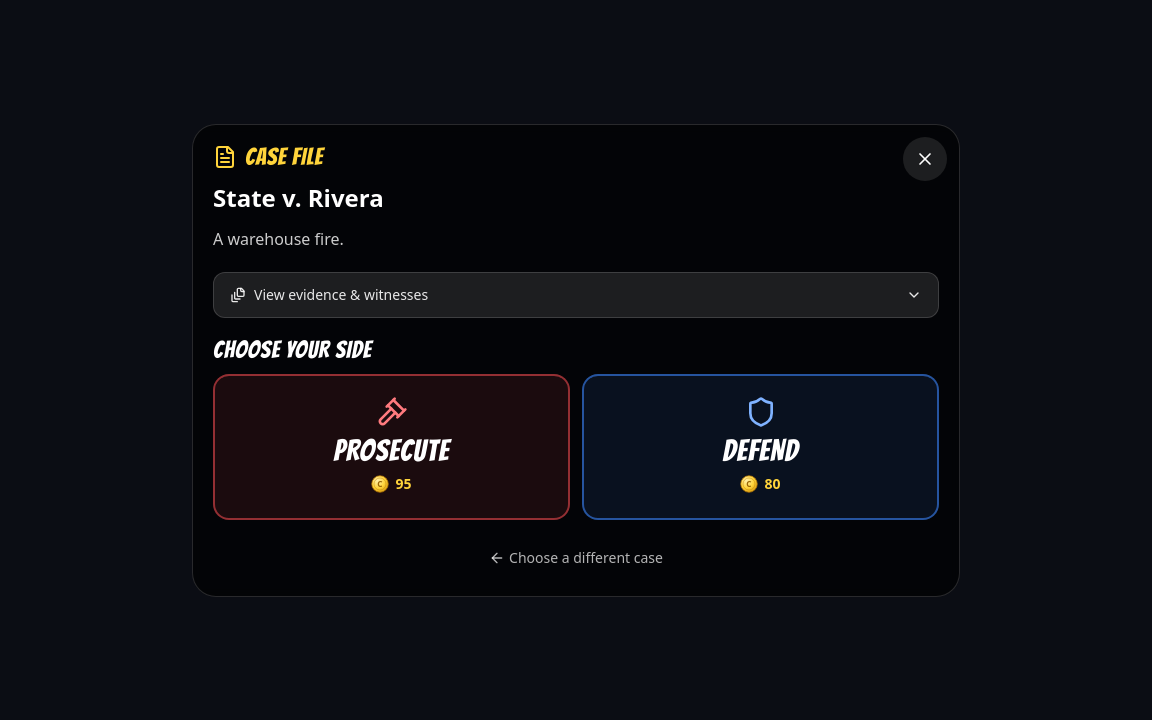
Scenario: CasePreview (accept the case) › shows what each side pays for a win, and the fee again when accepting
Expected: the element named "95 coins for a win" is shown, [372,474,412,498]
Expected: the element named "80 coins for a win" is shown, [740,474,780,498]
Click the button "DEFEND C 80". click: (760, 446)
box: [582,374,939,520]
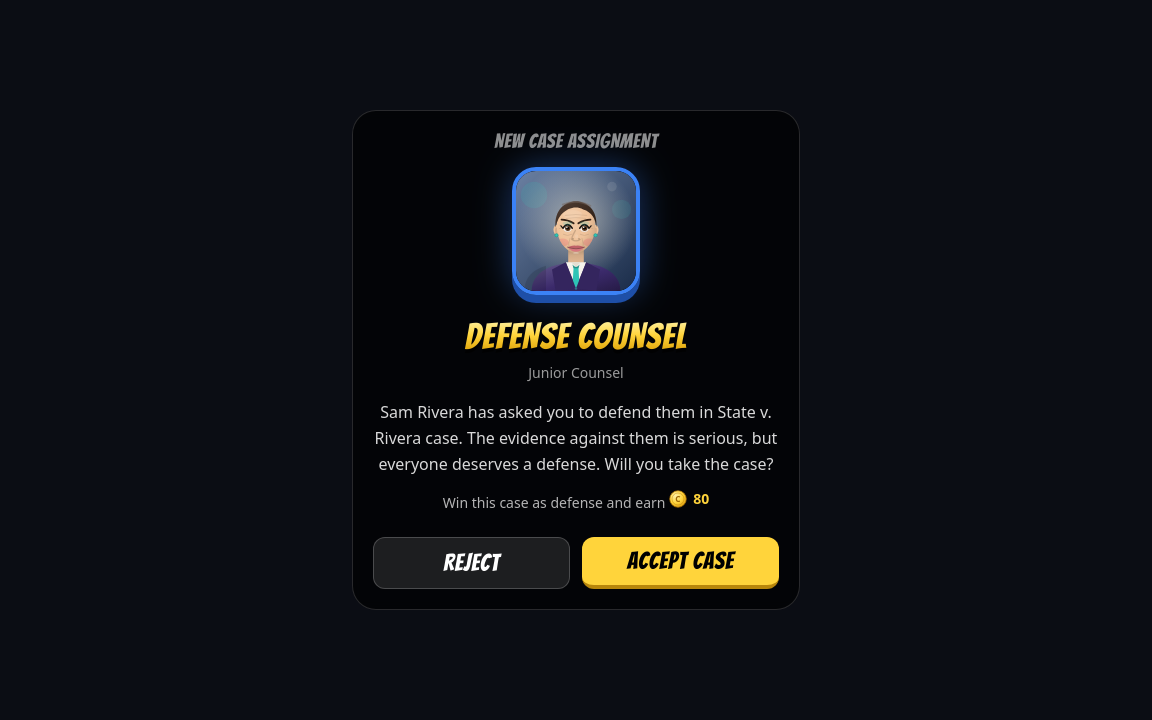
Expected: the text "80" is shown, [693,489,709,508]
Expected: the text "Win this case as defense and earn C 80" is shown, [443,489,709,512]
